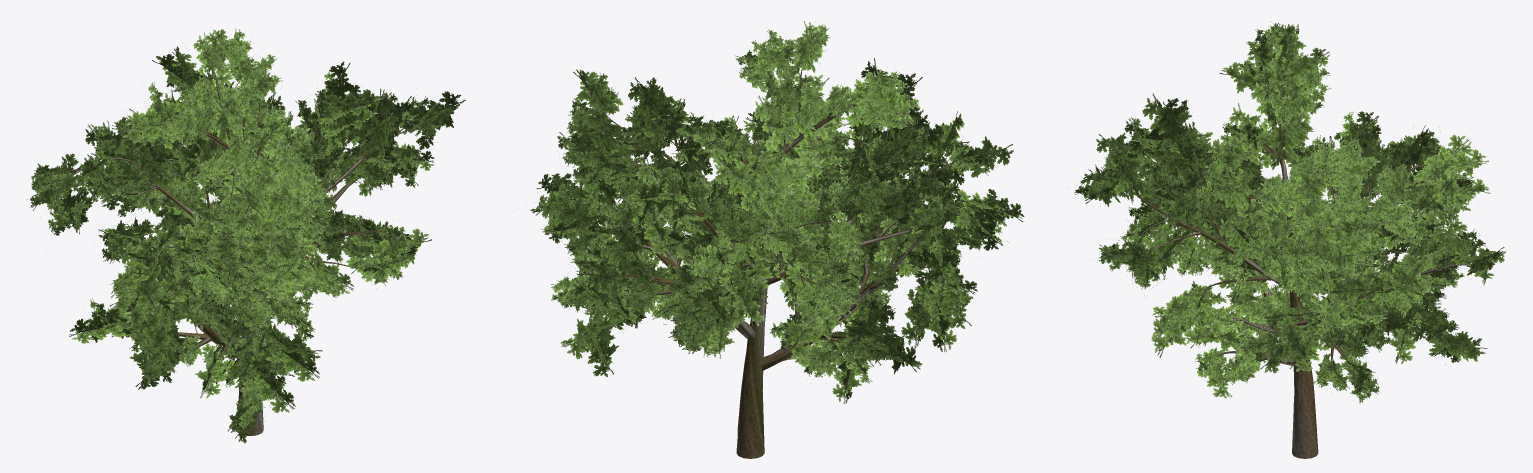
File: ez-oak-large.glb
3 views of the same model, side by side, from view 1: azimuth 30°, elevation 25°; view 2: azimuth 150°, elevation 25°; view 3: azimuth 270°, elevation 25° (orthographic). The views are drawn at different scales.
Visible parts, largest first — view 1: mid, near; view 2: mid, near; view 3: mid, near.
Boxes of the visible parts, <box> form: mid: <box>27,29,465,443</box>; near: <box>31,28,453,435</box>; mid: <box>530,21,1024,458</box>; near: <box>541,24,1010,458</box>; mid: <box>1080,24,1506,458</box>; near: <box>1074,23,1496,458</box>.
Bounding box in the file's own units: 18.67 × 18.12 × 18.26.
1 material, 1 textured.
